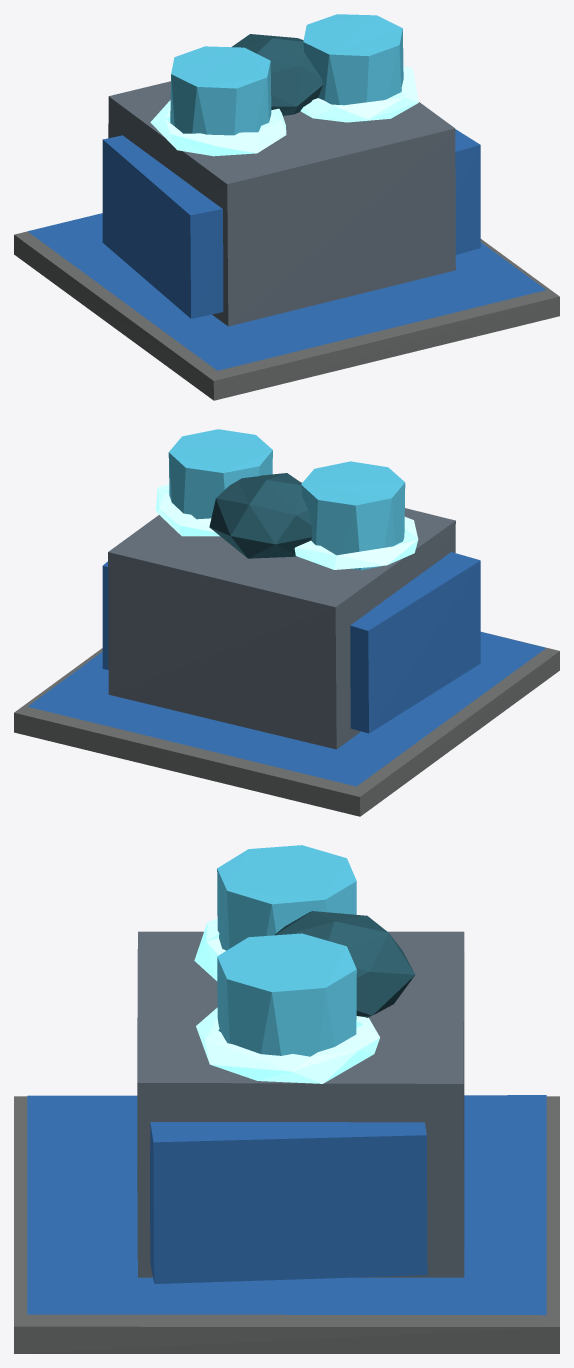
The model's file is SM_Alliance_AL_PowerPlant_LOD3.fbx.
The picture shows the model from 3 angles, top to bottom: view 1: azimuth 30°, elevation 25°; view 2: azimuth 150°, elevation 25°; view 3: azimuth 270°, elevation 25°; orthographic projection. The views are drawn at different scales.
Parts seen in each view (by area): view 1: LOD03_SM_Alliance_AL_PowerPlant; view 2: LOD03_SM_Alliance_AL_PowerPlant; view 3: LOD03_SM_Alliance_AL_PowerPlant.
Boxes of the visible parts, <box> form: LOD03_SM_Alliance_AL_PowerPlant: <box>14,14,559,400</box>; LOD03_SM_Alliance_AL_PowerPlant: <box>14,429,559,816</box>; LOD03_SM_Alliance_AL_PowerPlant: <box>14,845,559,1353</box>.
Bounding box in the file's own units: 597 × 597 × 386.
